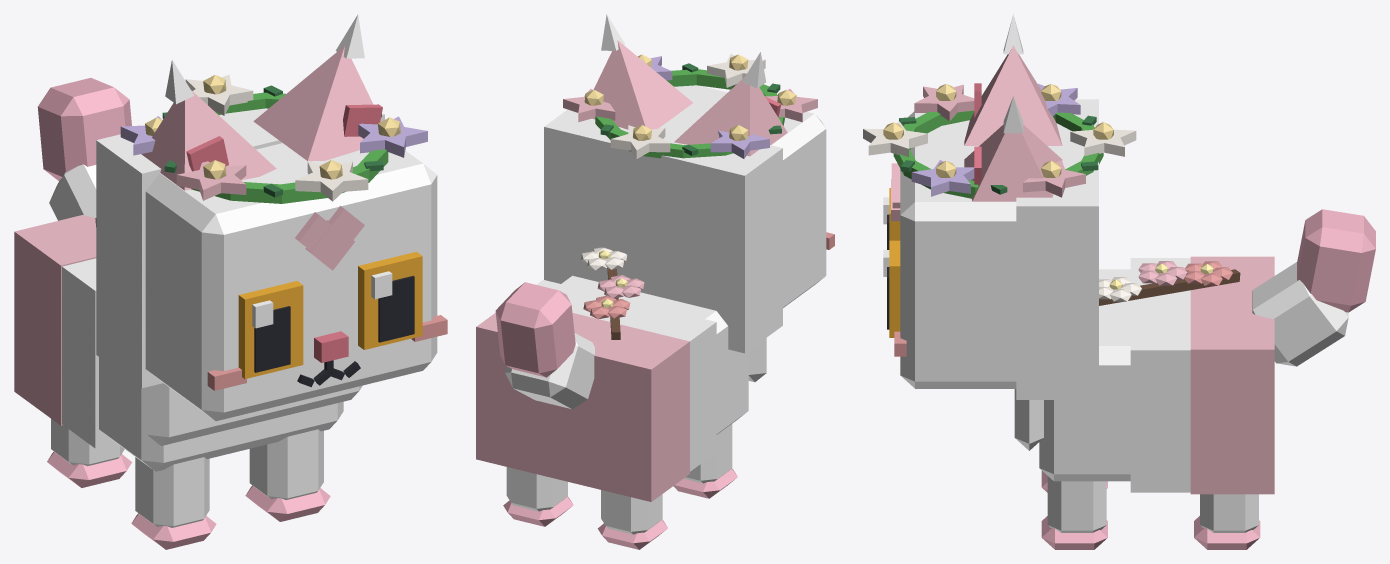
File: CatCafe_Cat_BlossomFox.glb
3 renders of one model, left to right at view 1: azimuth 30°, elevation 25°; view 2: azimuth 150°, elevation 25°; view 3: azimuth 270°, elevation 25°, orthographic. The views are drawn at different scales.
Parts seen in each view (by area): view 1: CatCafe_Cat_BlossomFox_Head, CatCafe_Cat_BlossomFox_Body, CatCafe_Cat_BlossomFox_Prop, CatCafe_Cat_BlossomFox_EarL, CatCafe_Cat_BlossomFox_Tail, CatCafe_Cat_BlossomFox_EarR, CatCafe_Cat_BlossomFox_LegF2, CatCafe_Cat_BlossomFox_LegF1, CatCafe_Cat_BlossomFox_Eye2, CatCafe_Cat_BlossomFox_Eye1, CatCafe_Cat_BlossomFox_LegB2; view 2: CatCafe_Cat_BlossomFox_Head, CatCafe_Cat_BlossomFox_Body, CatCafe_Cat_BlossomFox_Tail, CatCafe_Cat_BlossomFox_Prop, CatCafe_Cat_BlossomFox_EarL, CatCafe_Cat_BlossomFox_EarR, CatCafe_Cat_BlossomFox_LegB2, CatCafe_Cat_BlossomFox_LegB1, CatCafe_Cat_BlossomFox_Blossom_Glow, CatCafe_Cat_BlossomFox_LegF2; view 3: CatCafe_Cat_BlossomFox_Head, CatCafe_Cat_BlossomFox_Body, CatCafe_Cat_BlossomFox_Tail, CatCafe_Cat_BlossomFox_Prop, CatCafe_Cat_BlossomFox_EarR, CatCafe_Cat_BlossomFox_EarL, CatCafe_Cat_BlossomFox_LegF1, CatCafe_Cat_BlossomFox_LegB1, CatCafe_Cat_BlossomFox_Blossom_Glow, CatCafe_Cat_BlossomFox_Eye1, CatCafe_Cat_BlossomFox_Prop2.
Part boxes in pixels (x1=…): CatCafe_Cat_BlossomFox_Head: x1=96, y1=108, x2=447, y2=421; CatCafe_Cat_BlossomFox_Body: x1=14, y1=214, x2=362, y2=471; CatCafe_Cat_BlossomFox_Prop: x1=120, y1=74, x2=427, y2=203; CatCafe_Cat_BlossomFox_EarL: x1=253, y1=14, x2=382, y2=161; CatCafe_Cat_BlossomFox_Tail: x1=37, y1=78, x2=131, y2=220; CatCafe_Cat_BlossomFox_EarR: x1=141, y1=60, x2=276, y2=190; CatCafe_Cat_BlossomFox_LegF2: x1=131, y1=457, x2=216, y2=549; CatCafe_Cat_BlossomFox_LegF1: x1=245, y1=429, x2=330, y2=521; CatCafe_Cat_BlossomFox_Eye2: x1=238, y1=281, x2=303, y2=378; CatCafe_Cat_BlossomFox_Eye1: x1=358, y1=251, x2=422, y2=349; CatCafe_Cat_BlossomFox_LegB2: x1=47, y1=419, x2=132, y2=487; CatCafe_Cat_BlossomFox_Head: x1=544, y1=85, x2=834, y2=353; CatCafe_Cat_BlossomFox_Body: x1=476, y1=275, x2=766, y2=501; CatCafe_Cat_BlossomFox_Tail: x1=495, y1=282, x2=594, y2=409; CatCafe_Cat_BlossomFox_Prop: x1=563, y1=54, x2=817, y2=158; CatCafe_Cat_BlossomFox_EarL: x1=592, y1=14, x2=692, y2=129; CatCafe_Cat_BlossomFox_EarR: x1=674, y1=52, x2=787, y2=156; CatCafe_Cat_BlossomFox_LegB2: x1=597, y1=490, x2=667, y2=549; CatCafe_Cat_BlossomFox_LegB1: x1=503, y1=467, x2=573, y2=526; CatCafe_Cat_BlossomFox_Blossom_Glow: x1=580, y1=247, x2=644, y2=319; CatCafe_Cat_BlossomFox_LegF2: x1=673, y1=424, x2=737, y2=498; CatCafe_Cat_BlossomFox_Head: x1=891, y1=99, x2=1098, y2=399; CatCafe_Cat_BlossomFox_Body: x1=1014, y1=256, x2=1274, y2=494; CatCafe_Cat_BlossomFox_Tail: x1=1252, y1=209, x2=1375, y2=366; CatCafe_Cat_BlossomFox_Prop: x1=863, y1=83, x2=1136, y2=198; CatCafe_Cat_BlossomFox_EarR: x1=964, y1=14, x2=1062, y2=145; CatCafe_Cat_BlossomFox_EarL: x1=964, y1=96, x2=1062, y2=201; CatCafe_Cat_BlossomFox_LegF1: x1=1041, y1=476, x2=1107, y2=549; CatCafe_Cat_BlossomFox_LegB1: x1=1194, y1=494, x2=1260, y2=549; CatCafe_Cat_BlossomFox_Blossom_Glow: x1=1099, y1=261, x2=1232, y2=301; CatCafe_Cat_BlossomFox_Eye1: x1=883, y1=240, x2=900, y2=337; CatCafe_Cat_BlossomFox_Prop2: x1=1099, y1=269, x2=1240, y2=305.
Size of the model in its own units: 1.24 by 2.49 by 2.51.
Materials: 1 (1 with a texture image).
